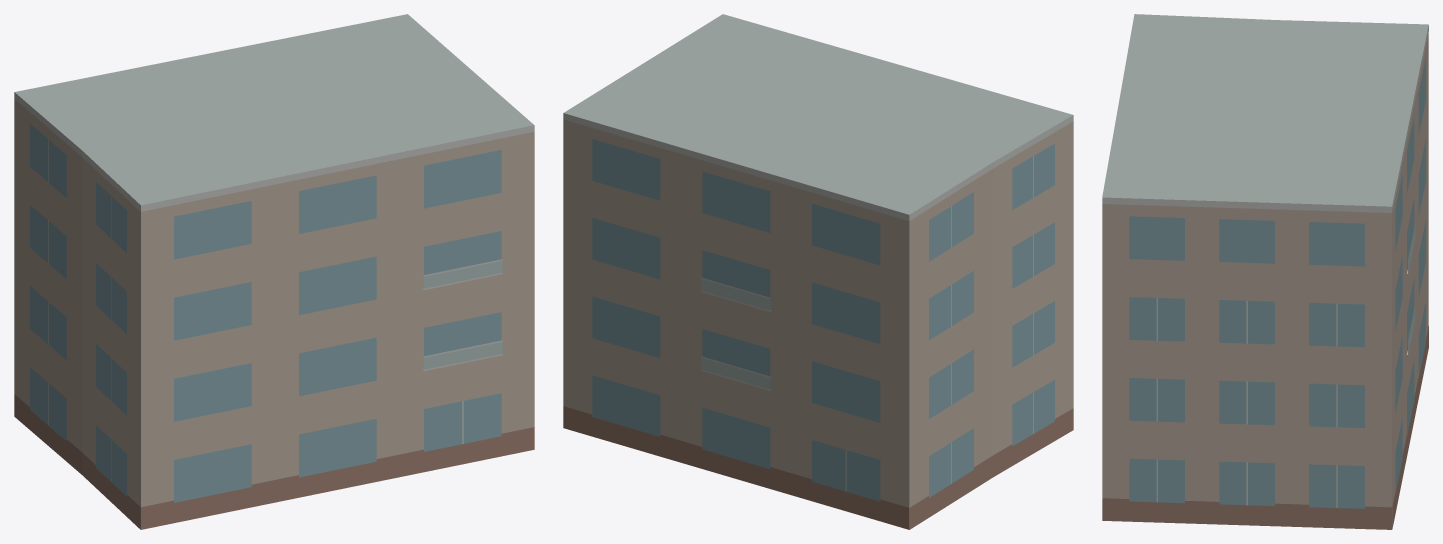
The model's file is survey-upis-32477304.glb.
The picture shows the model from 3 angles, left to right: view 1: azimuth 30°, elevation 25°; view 2: azimuth 150°, elevation 25°; view 3: azimuth 270°, elevation 25°; orthographic projection. The views are drawn at different scales.
Visible parts, largest first — view 1: survey-upis-32477304.tmp; view 2: survey-upis-32477304.tmp; view 3: survey-upis-32477304.tmp.
Boxes of the visible parts, x1,y1,x2,y2 form: survey-upis-32477304.tmp: (14,14,534,529); survey-upis-32477304.tmp: (563,14,1073,529); survey-upis-32477304.tmp: (1102,14,1428,529).
Bounding box in the file's own units: 15.6 × 12.2 × 11.19.
